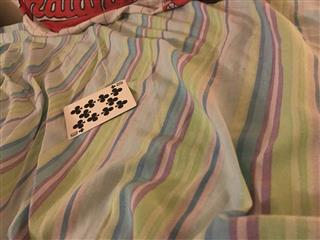TenOfClubs: (62, 78, 137, 140)
